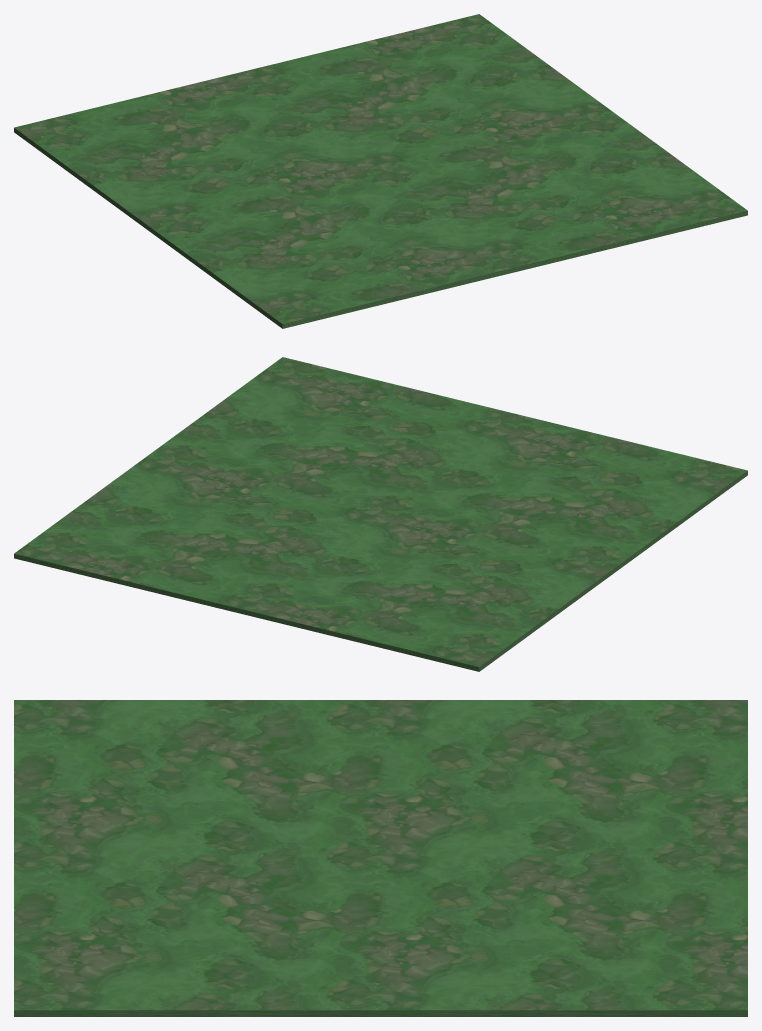
Rendered from thee_gornd_dev.fbx.
3 views of the same model, one above another, from view 1: azimuth 30°, elevation 25°; view 2: azimuth 150°, elevation 25°; view 3: azimuth 270°, elevation 25° (orthographic). The views are drawn at different scales.
Parts seen in each view (by area): view 1: pCube1; view 2: pCube1; view 3: pCube1.
Part boxes in pixels (x1,y1,x2,y2): pCube1: [14, 14, 747, 328]; pCube1: [14, 357, 747, 671]; pCube1: [14, 700, 747, 1016].
Bounding box in the file's own units: 951 × 9.3 × 951.
Materials: 1 (1 with a texture image).
